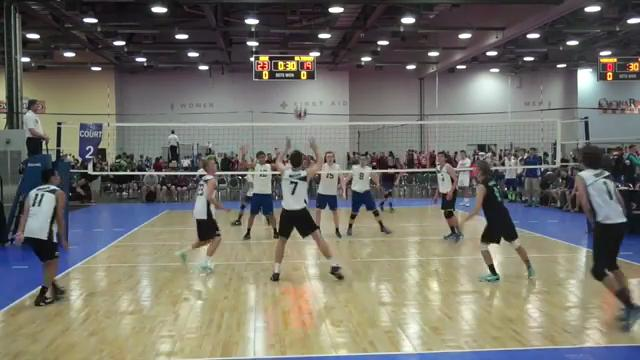ricezione: (268, 130, 352, 285)
